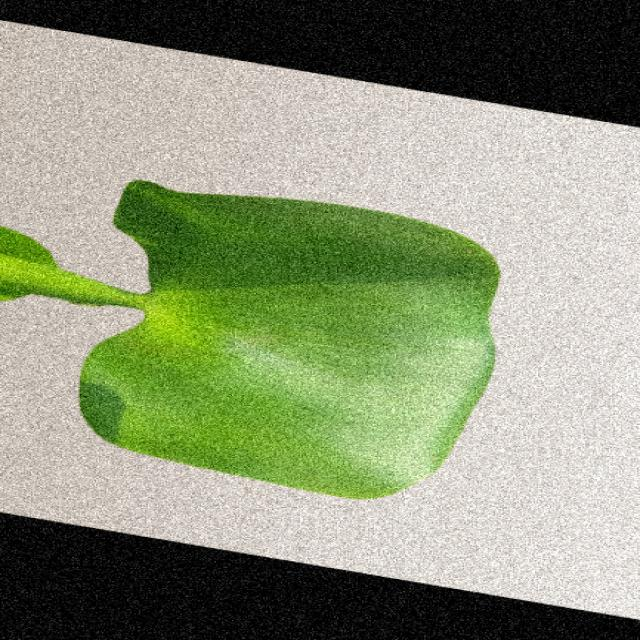daun sehat: (3, 181, 498, 498)
